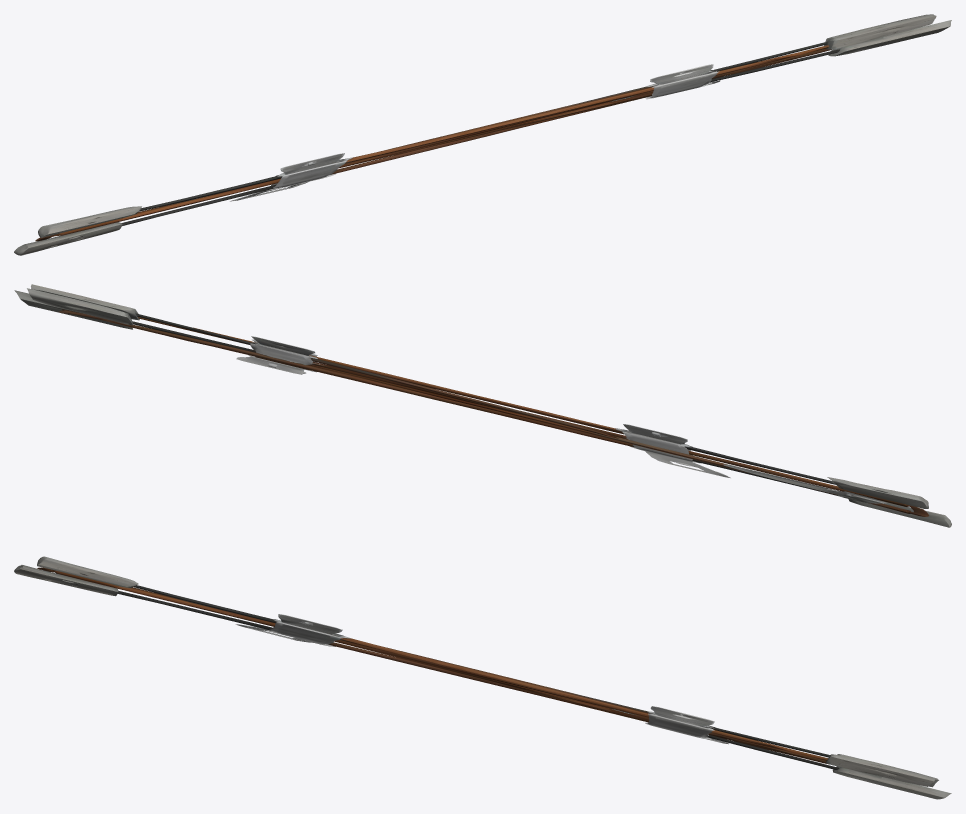
The model's file is line_cable_idle.glb.
3 views of the same model, one above another, from view 1: azimuth 30°, elevation 25°; view 2: azimuth 150°, elevation 25°; view 3: azimuth 330°, elevation 25° (orthographic).
Visible parts, largest first — view 1: tripo_node_f5f00a07-9acf-441c-9726-5b4343dff396; view 2: tripo_node_f5f00a07-9acf-441c-9726-5b4343dff396; view 3: tripo_node_f5f00a07-9acf-441c-9726-5b4343dff396.
Boxes of the visible parts, bbox=[...] form: tripo_node_f5f00a07-9acf-441c-9726-5b4343dff396: bbox=[14, 14, 951, 255]; tripo_node_f5f00a07-9acf-441c-9726-5b4343dff396: bbox=[14, 284, 951, 527]; tripo_node_f5f00a07-9acf-441c-9726-5b4343dff396: bbox=[14, 556, 951, 799].
Bounding box in the file's own units: 3 × 0.0798 × 0.0601.
Materials: 1 (1 with a texture image).
